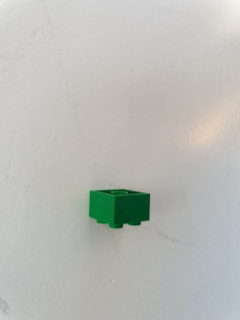2x2 green: (88, 187, 150, 229)
